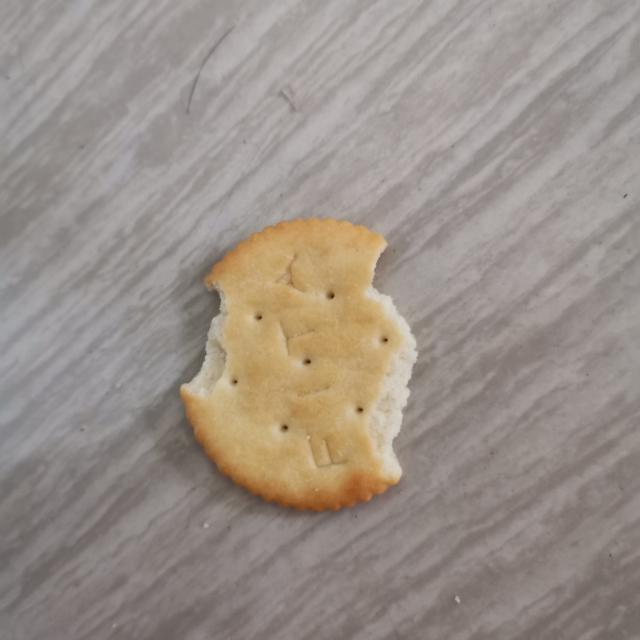Broken: (178, 216, 418, 512)
